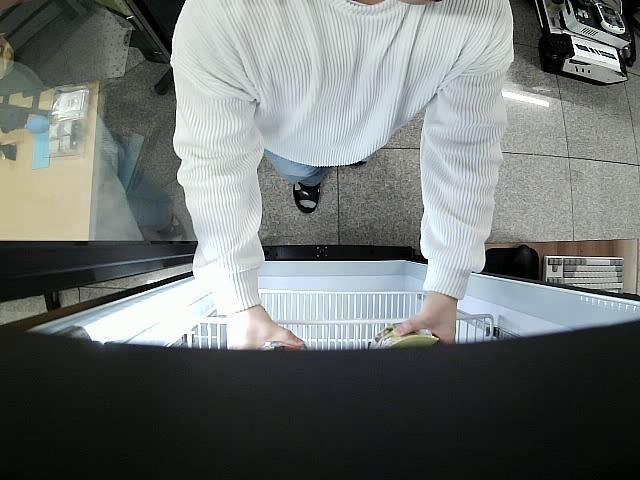03_chapagetti_L: (372, 324, 446, 351)
